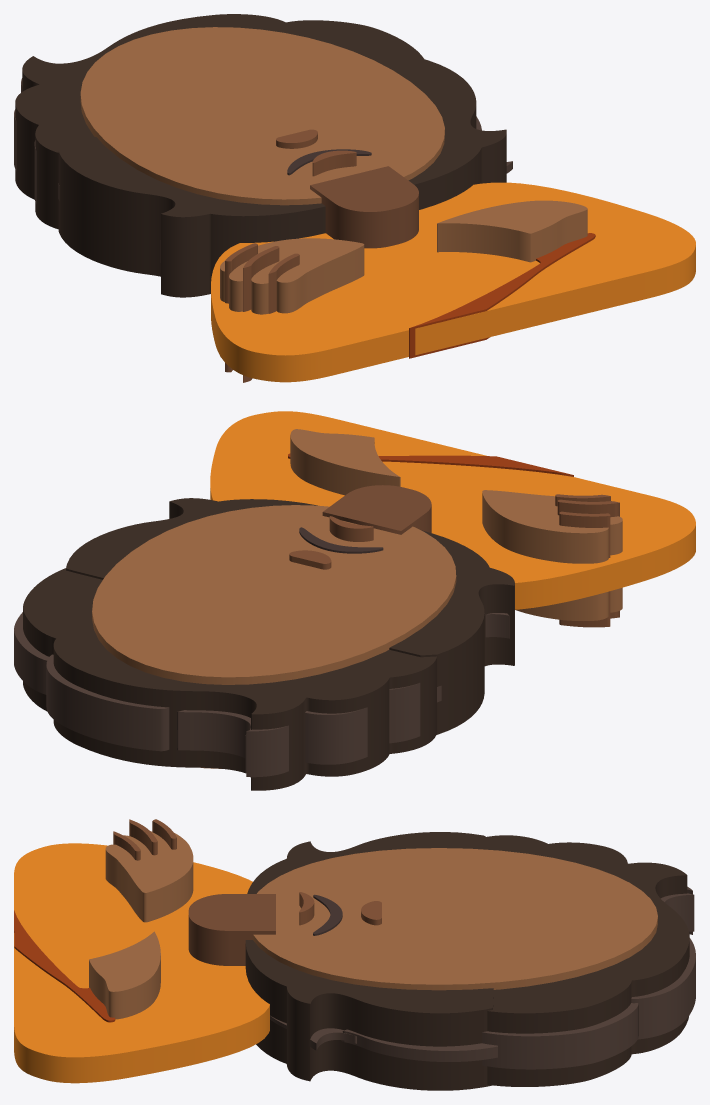
File: emoji_u1f64e_1f3fe.glb
3 renders of one model, top to bottom at view 1: azimuth 30°, elevation 25°; view 2: azimuth 150°, elevation 25°; view 3: azimuth 270°, elevation 25°, orthographic. The views are drawn at different scales.
Parts seen in each view (by area): view 1: emoji_u1f64e_1f3fe; view 2: emoji_u1f64e_1f3fe; view 3: emoji_u1f64e_1f3fe.
Boxes of the visible parts, x1,y1,x2,y2 form: emoji_u1f64e_1f3fe: [14, 14, 695, 382]; emoji_u1f64e_1f3fe: [14, 411, 695, 790]; emoji_u1f64e_1f3fe: [14, 819, 695, 1090].
Bounding box in the file's own units: 0.0249 × 0.0062 × 0.0335.
